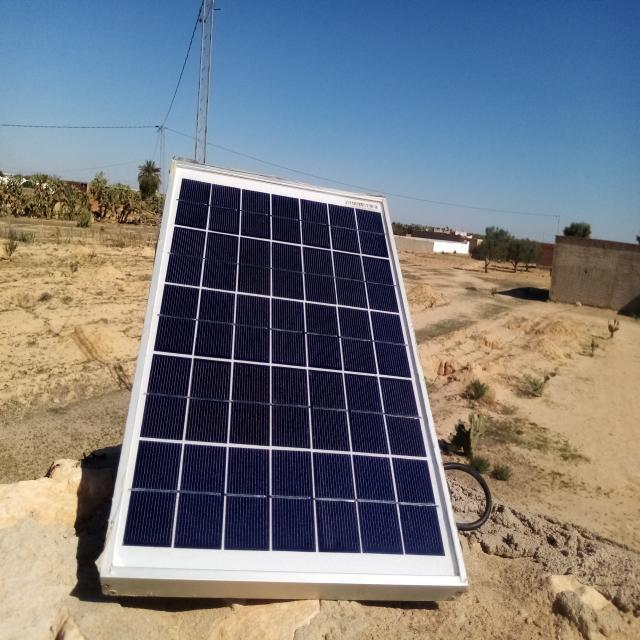no faulty: (103, 160, 465, 585)
